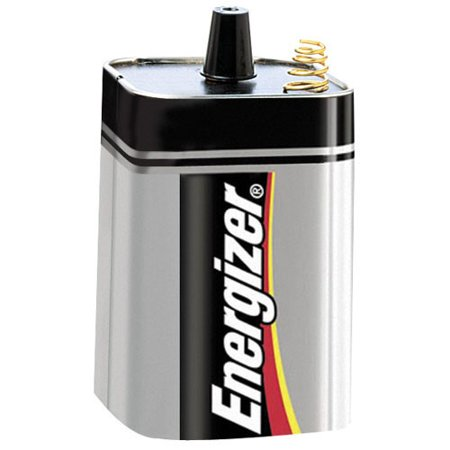6V: (80, 7, 371, 443)
